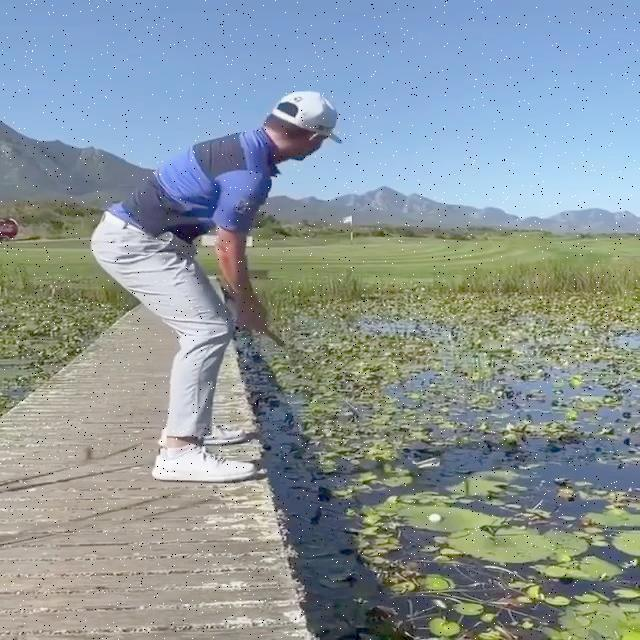ClubHead: (415, 459, 441, 469)
GolfBall: (428, 514, 440, 523)
